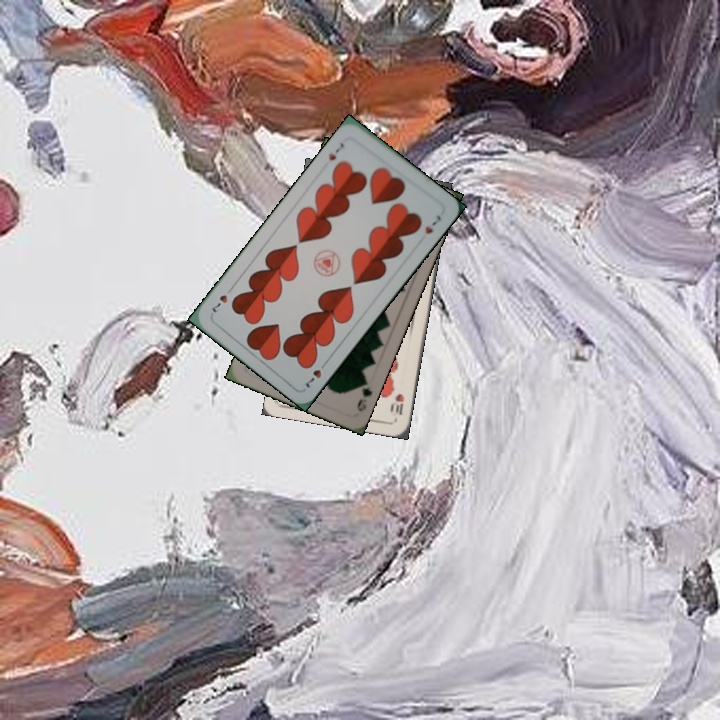G9: (353, 374, 375, 414)
H10: (388, 389, 406, 417)
H7: (300, 356, 330, 391), (324, 138, 347, 163)
